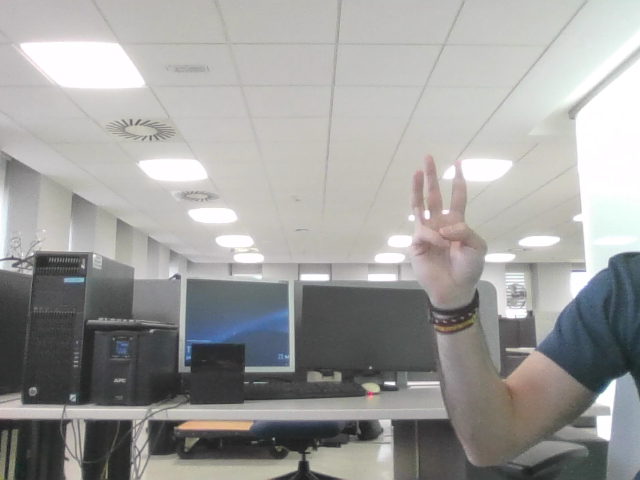3Dedos: (420, 165, 476, 266)
